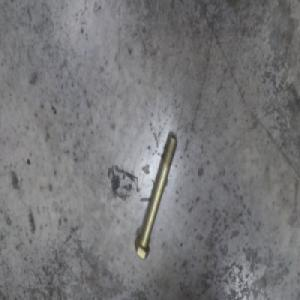Bolt: (134, 120, 176, 259)
